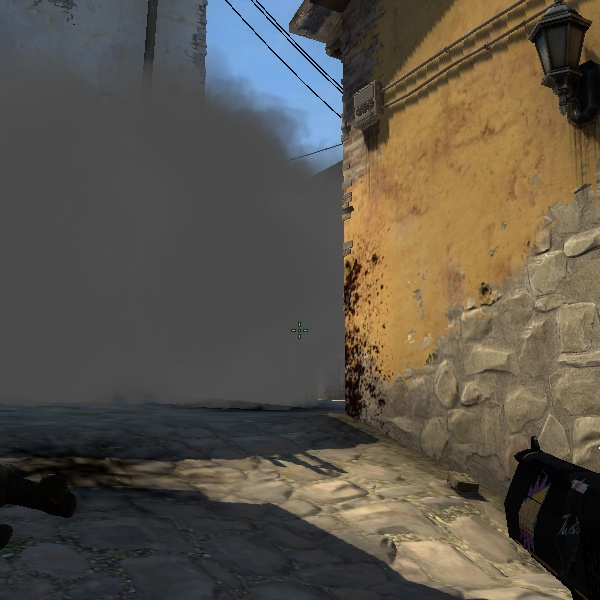t_body: (327, 0, 589, 593)
